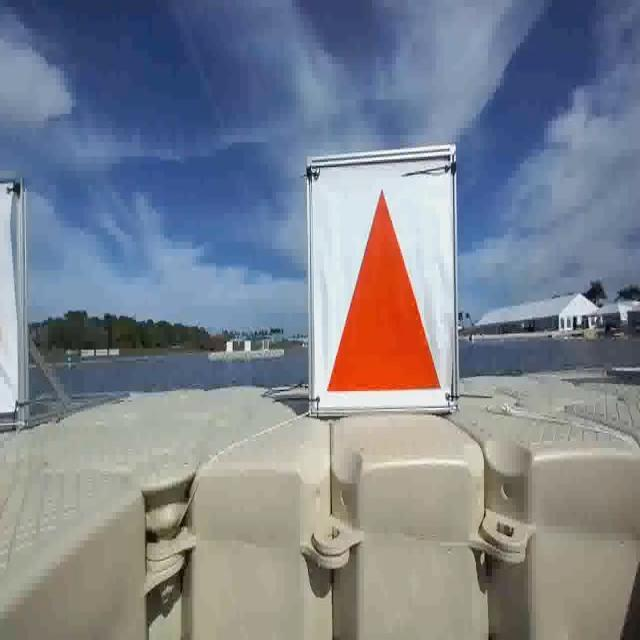red-dot: (320, 156, 451, 417)
